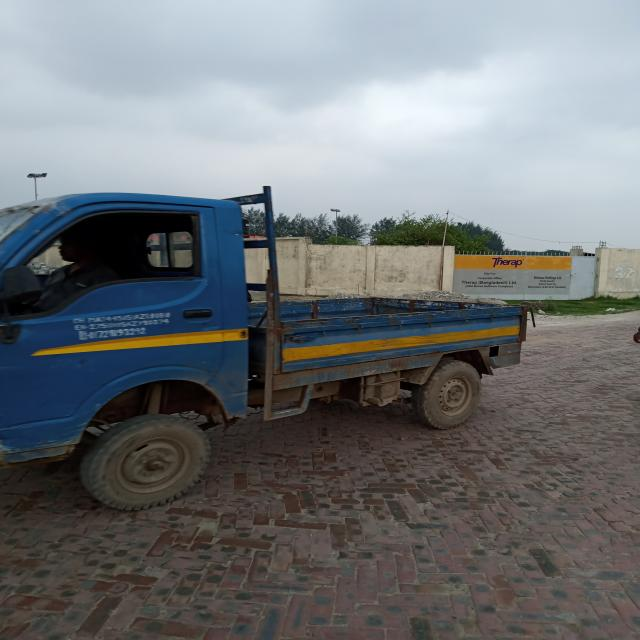truck: (2, 192, 531, 510)
